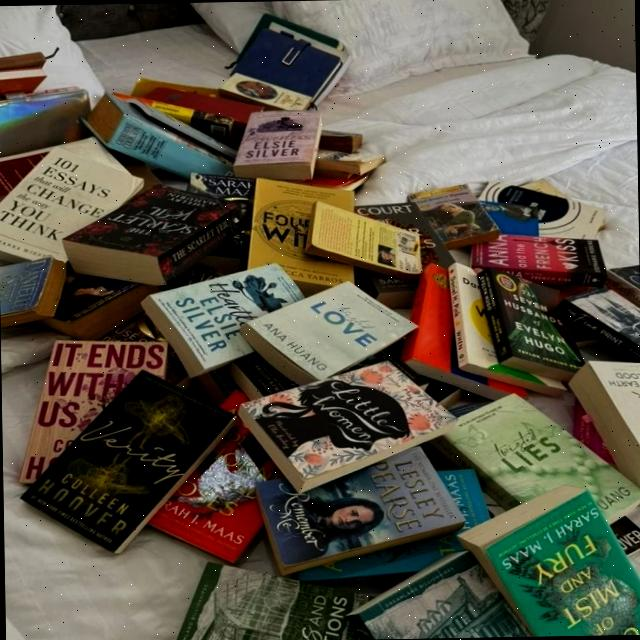book: (18, 377, 234, 555), (241, 359, 458, 473), (255, 281, 417, 378), (72, 177, 242, 265)
